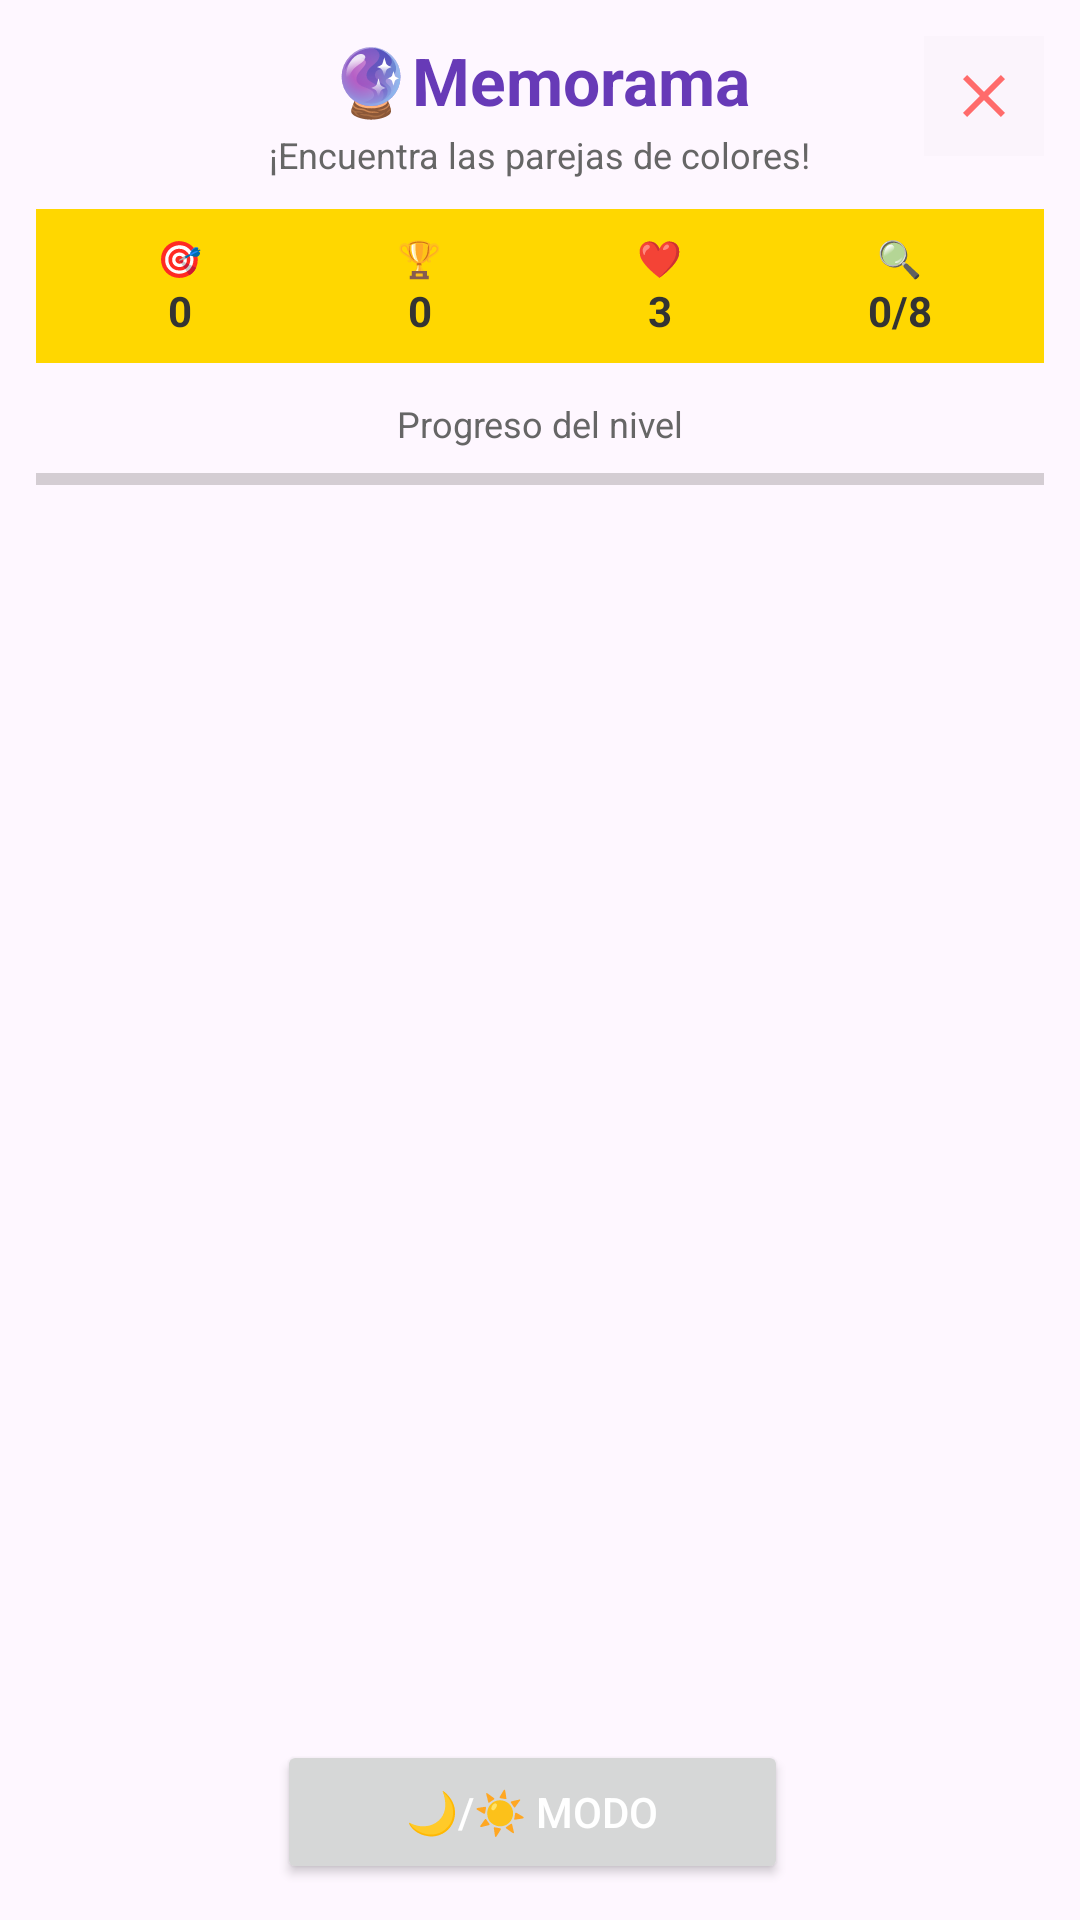

Point at icon controls on the screen. Image size 1080px×1920px, points as point (x, y).
Cerrar juego: point (984, 96)
